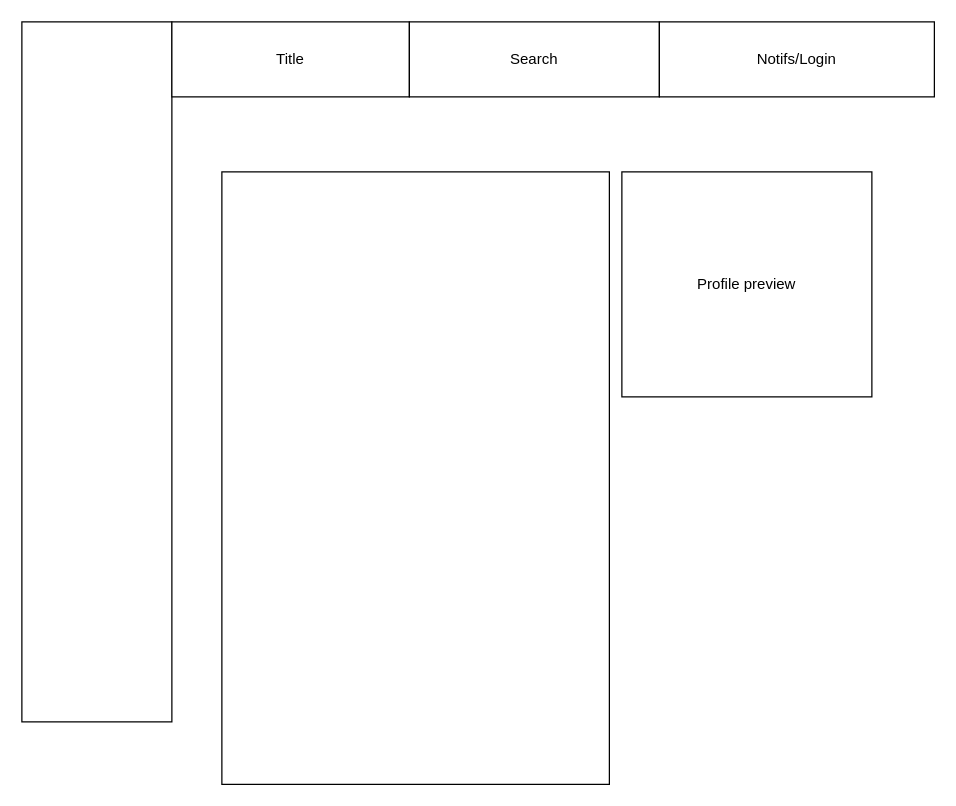
The diagram is 956 pixels wide and 806 high, and some of its shapes have lost their labels. The shapes that lost their labels are listed below. From the top down, each one's centre as x and y in pixels, then its label:
point 96,371: Nav
point 415,477: Etudiant List
